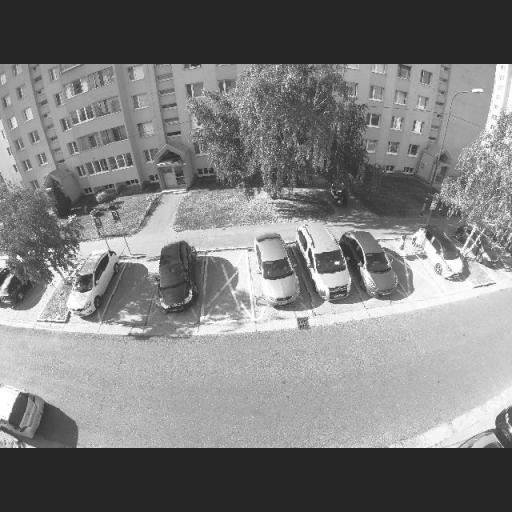busy: (300, 223, 358, 302), (0, 384, 74, 441), (248, 229, 302, 307), (147, 240, 203, 312), (65, 248, 119, 317), (414, 222, 476, 280), (347, 232, 402, 296), (0, 259, 24, 308)
free: (206, 264, 245, 314), (118, 278, 150, 317), (396, 254, 422, 284)
